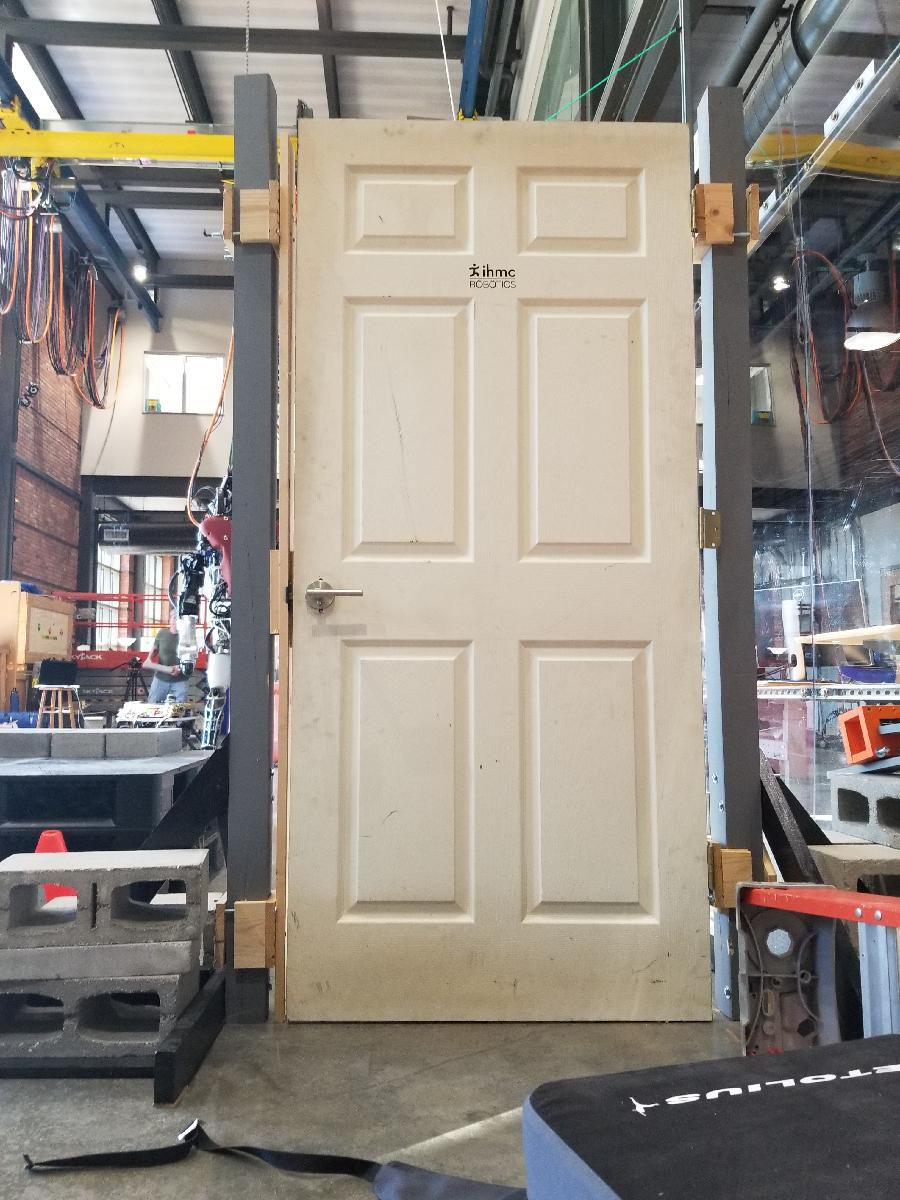door: (282, 115, 719, 1025)
doorHandle: (299, 574, 367, 615)
